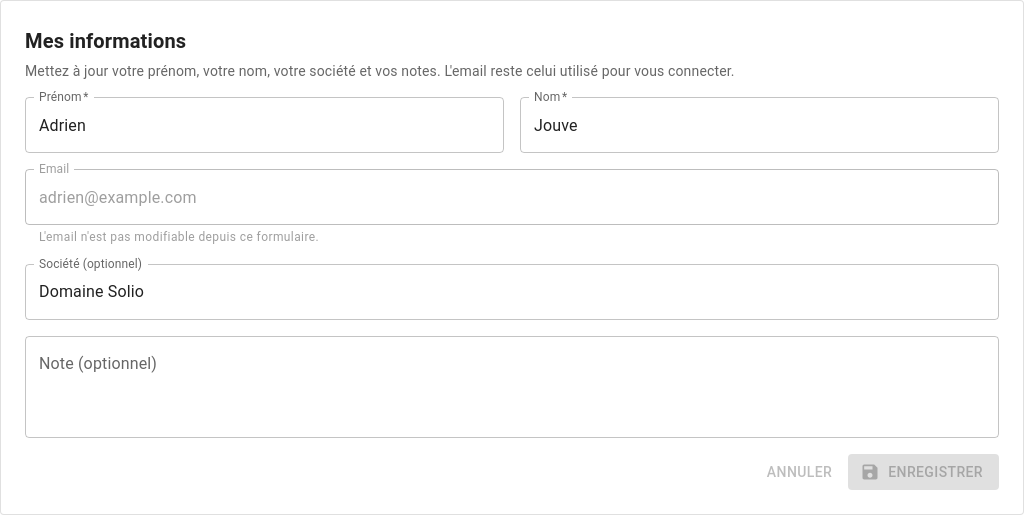
SelfProfileSection › Save + Cancel are disabled until the user modifies a field, re-disabled on Cancel
The image size is (1024, 532).
Expected: the button "Enregistrer" is disabled, [848,454,999,490]
Expected: the button "Annuler" is disabled, [759,454,840,490]
Replace the text in the field labelled "Prénom *" with "Marie": {"x": 264, "y": 125} [25,97,504,153]
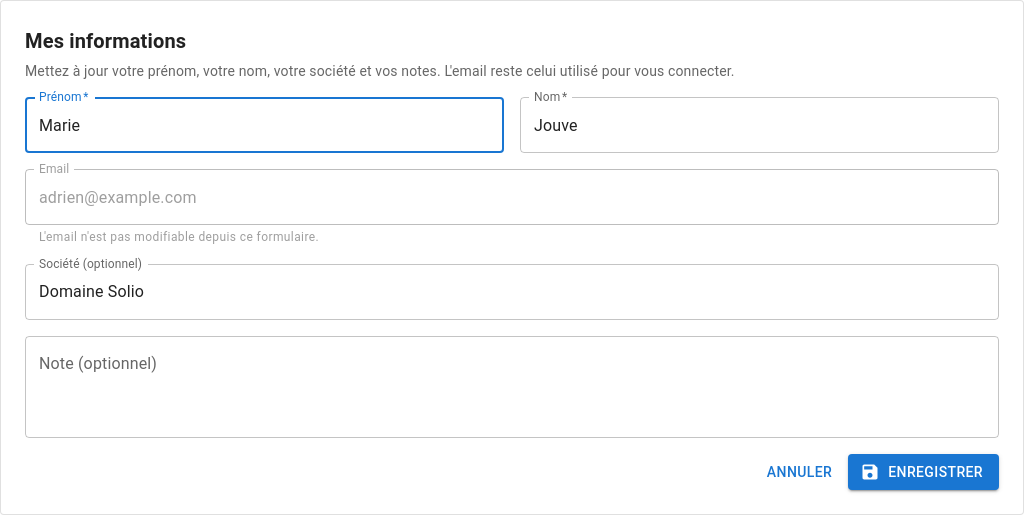
Expected: the button "Enregistrer" is enabled, [848,454,999,490]
Expected: the button "Annuler" is enabled
Click the button "Annuler": {"x": 800, "y": 472} [759,454,840,490]
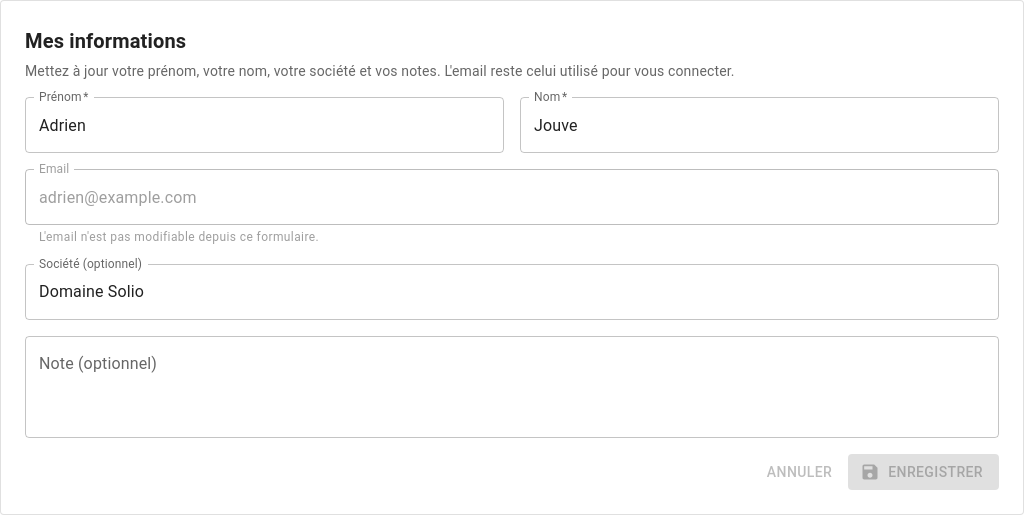
Expected: the field labelled "Prénom *" holds "Adrien", [25,97,504,153]
Expected: the button "Enregistrer" is disabled, [848,454,999,490]
Expected: the button "Annuler" is disabled, [759,454,840,490]
